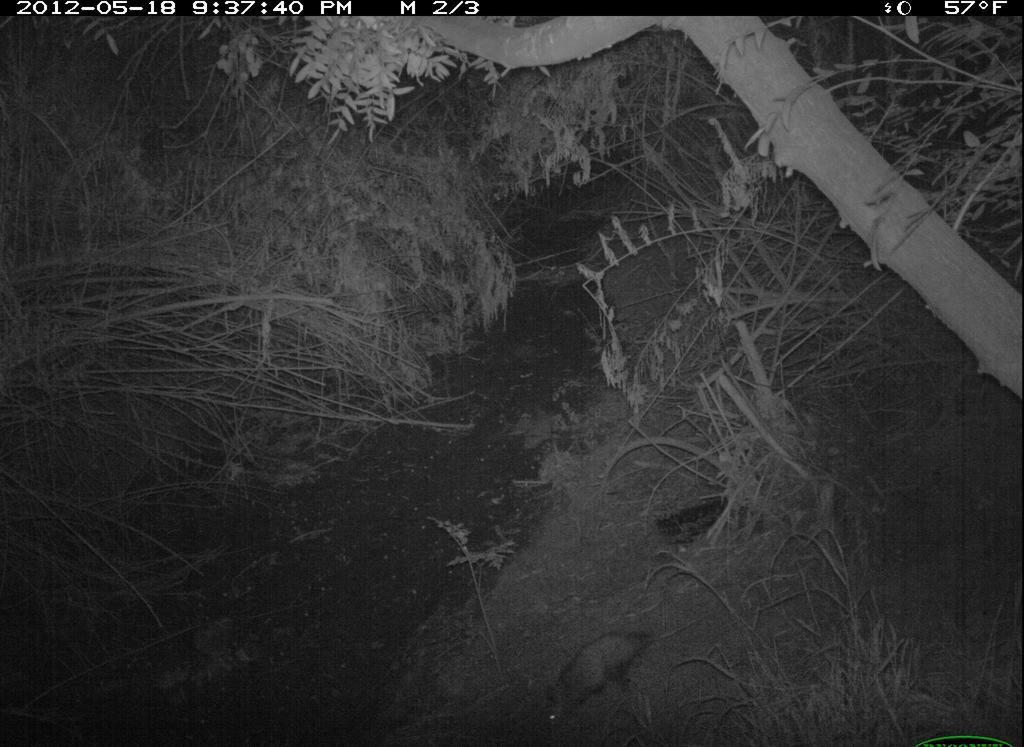opossum: (524, 628, 669, 731)
